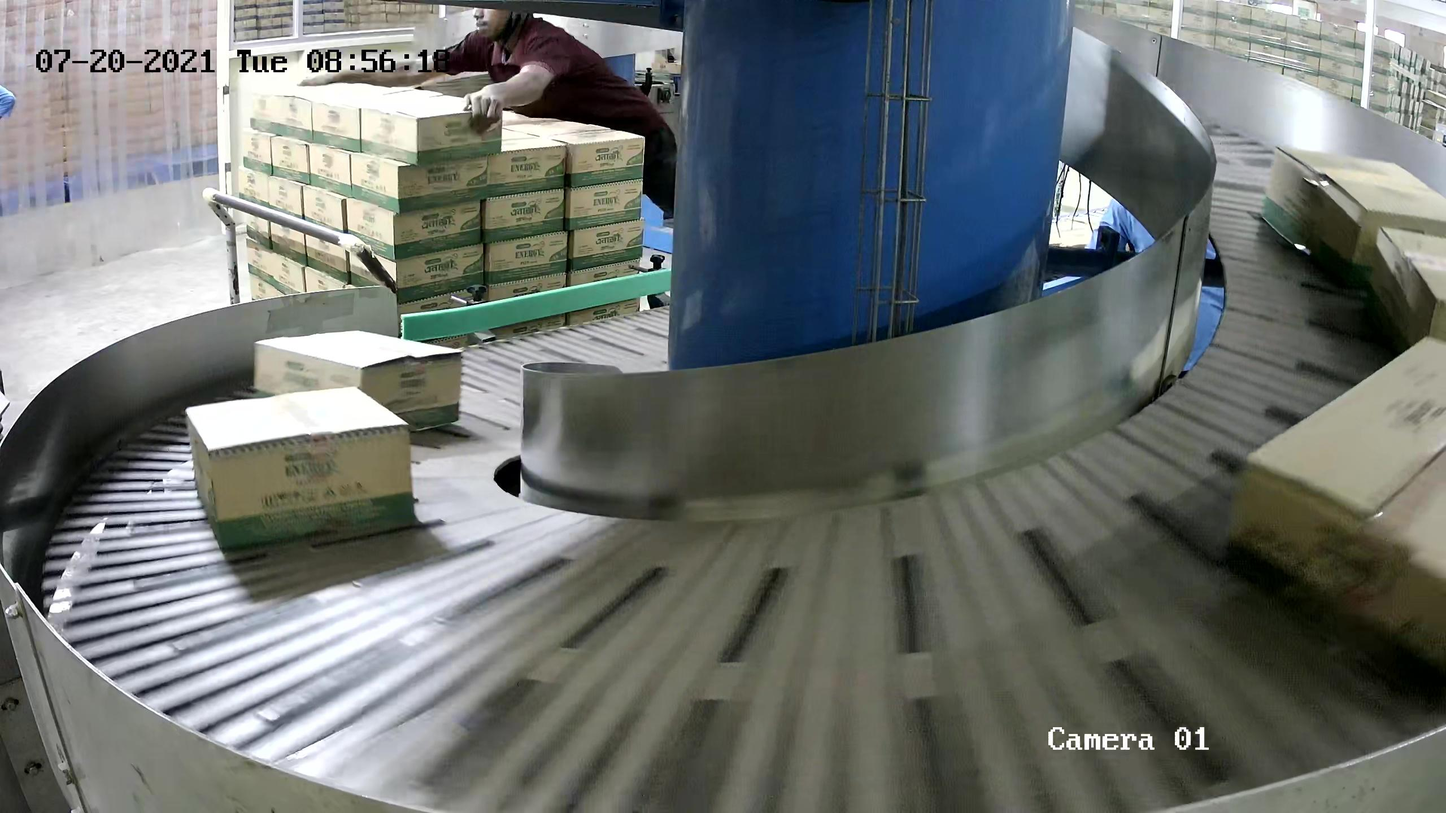Box: (1219, 333, 1446, 711), (187, 386, 420, 551), (1260, 140, 1446, 292), (253, 328, 465, 436), (1361, 221, 1446, 367)
